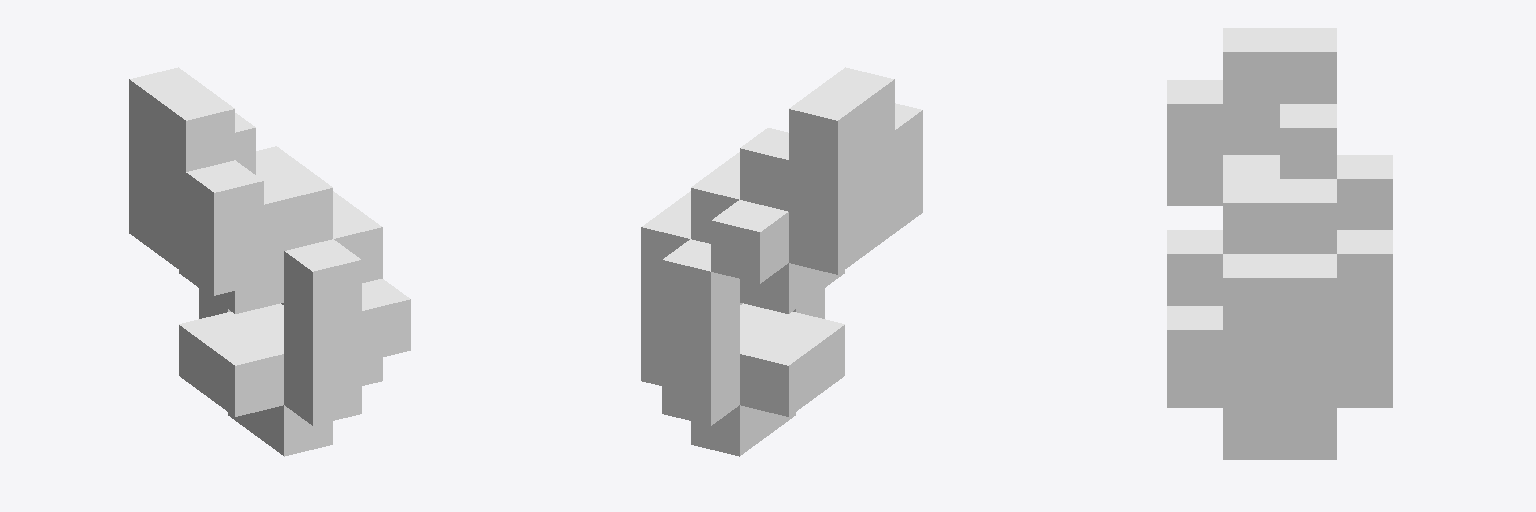
The model's file is knight-0.obj.
3 views of the same model, side by side, from view 1: azimuth 30°, elevation 25°; view 2: azimuth 150°, elevation 25°; view 3: azimuth 270°, elevation 25° (orthographic).
Visible parts, largest first — view 1: object 1; view 2: object 1; view 3: object 1.
Part boxes in pixels (bbox=[...]): object 1: bbox=[129, 67, 410, 456]; object 1: bbox=[641, 67, 922, 456]; object 1: bbox=[1167, 28, 1392, 459].
Bounding box in the file's own units: 0.4 × 0.7 × 0.4.